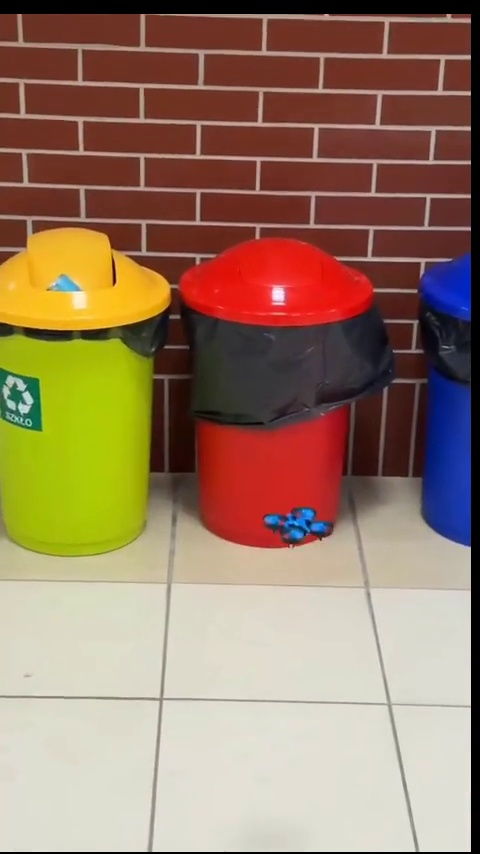drone: (265, 507, 334, 544)
